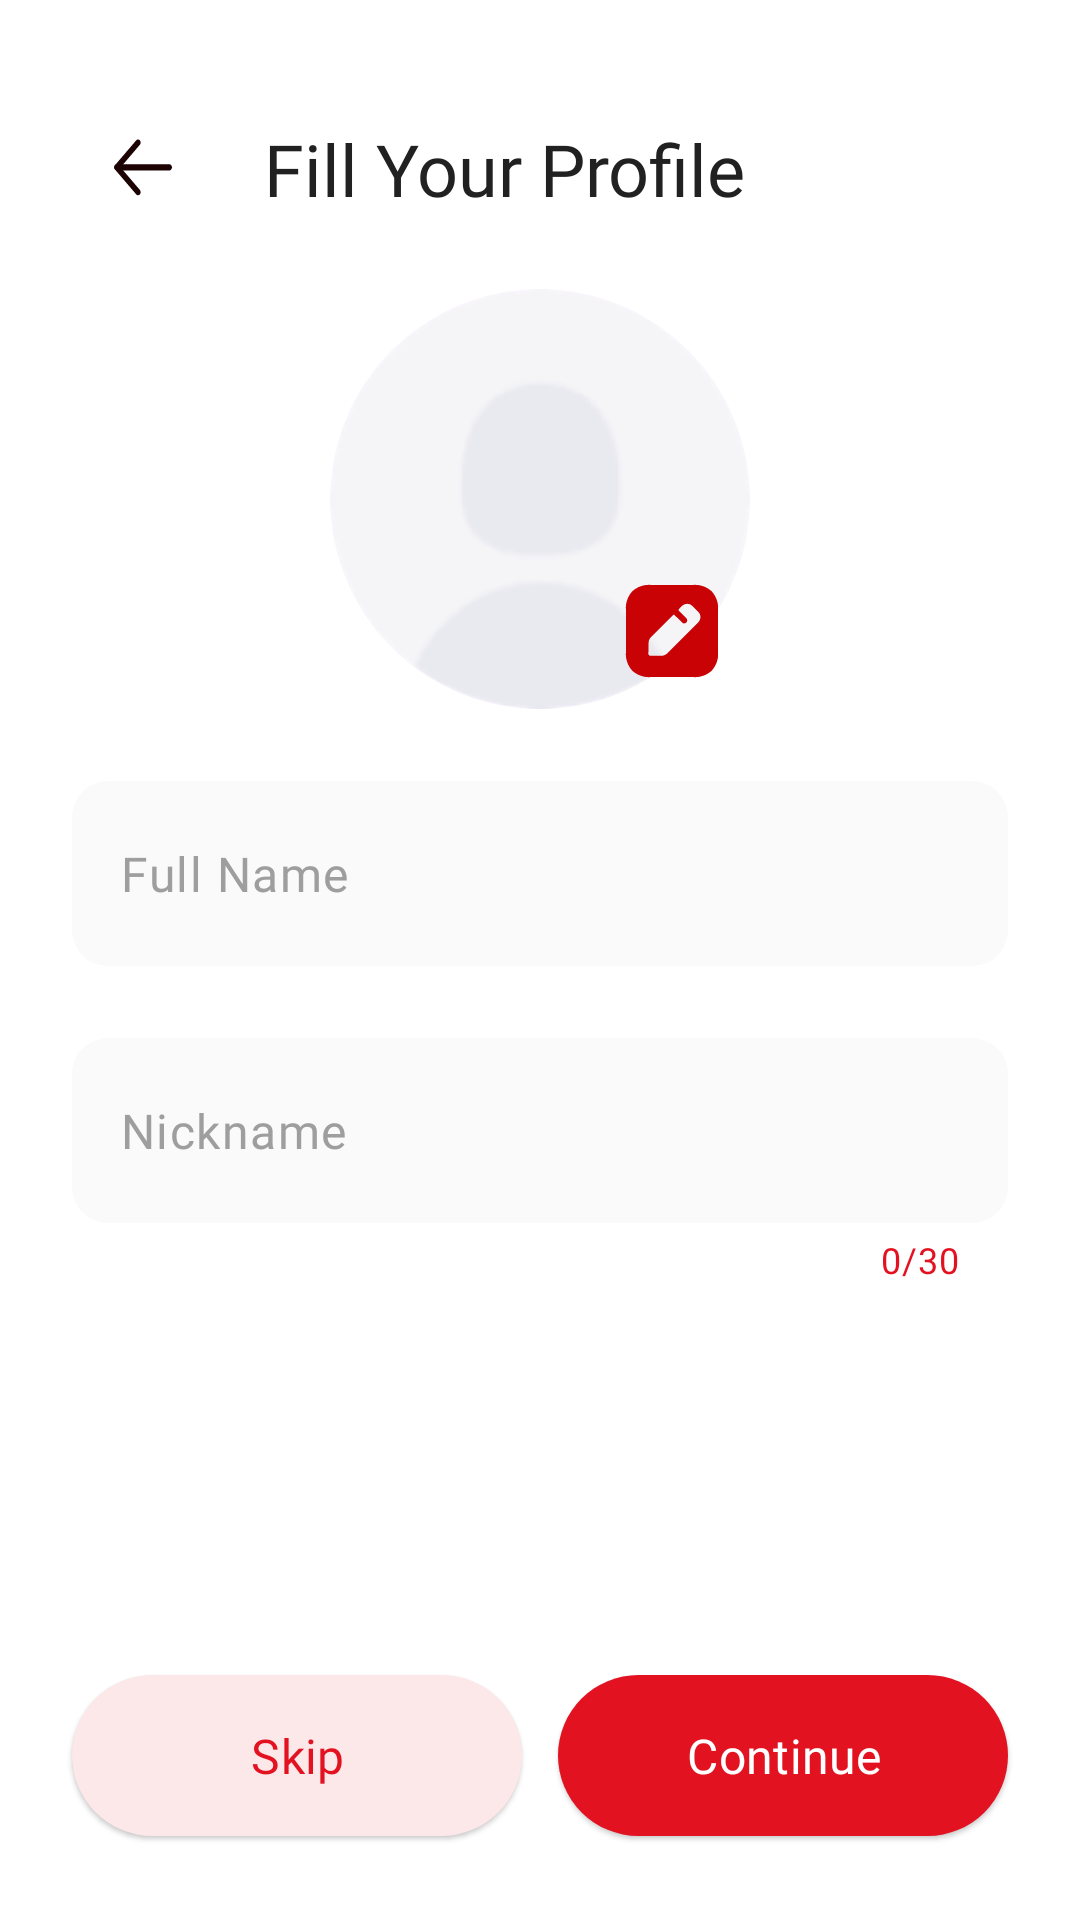

Locate icon controls on the screen. Image size 1080w x 1920h, boxes as [x1,y1,x2,y2].
arrow left long: [114,139,172,196]
edit: [625,584,718,678]
